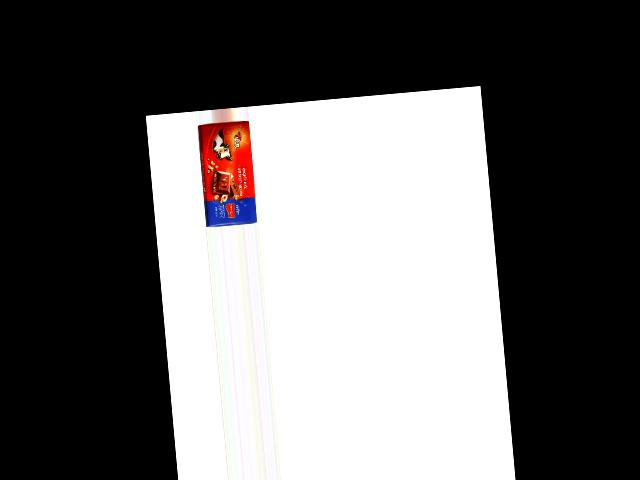chocolate: (197, 119, 257, 227)
